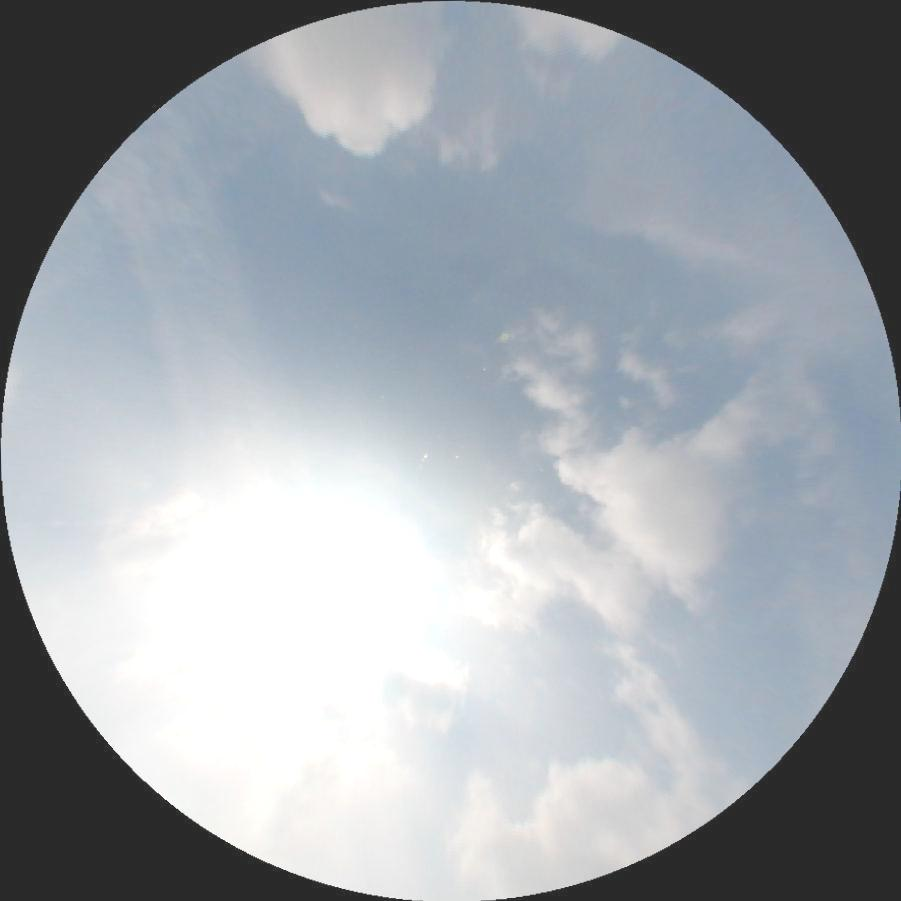sun: (228, 532, 385, 654)
